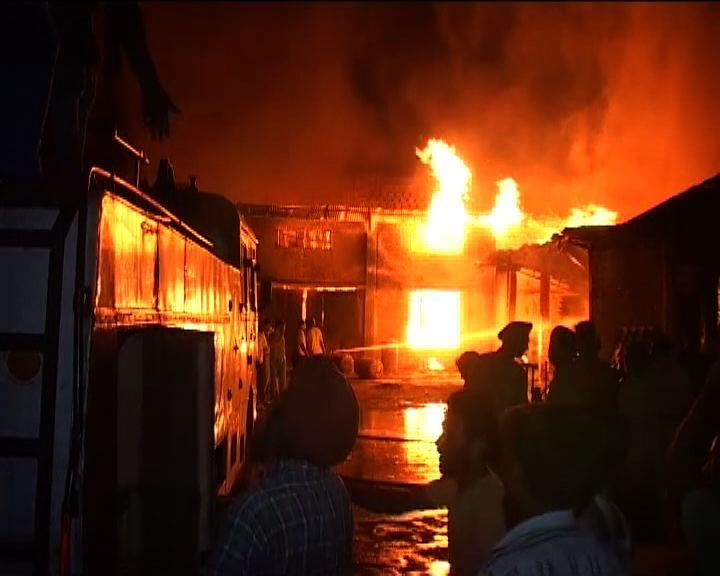Fire: (483, 171, 621, 249), (403, 128, 480, 266), (395, 283, 474, 365)
